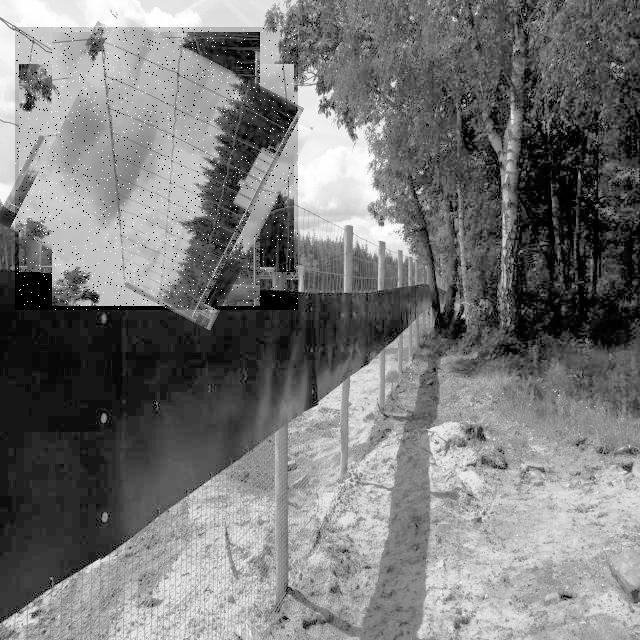fences: (15, 27, 298, 310)
